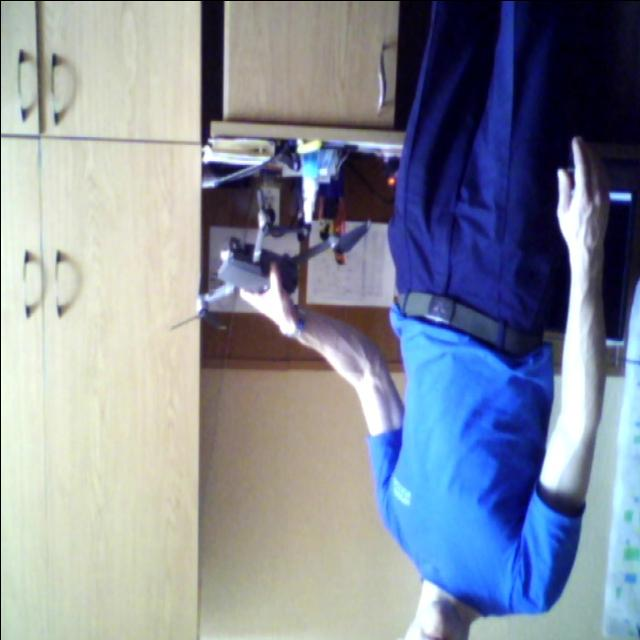drone: (164, 212, 368, 344)
